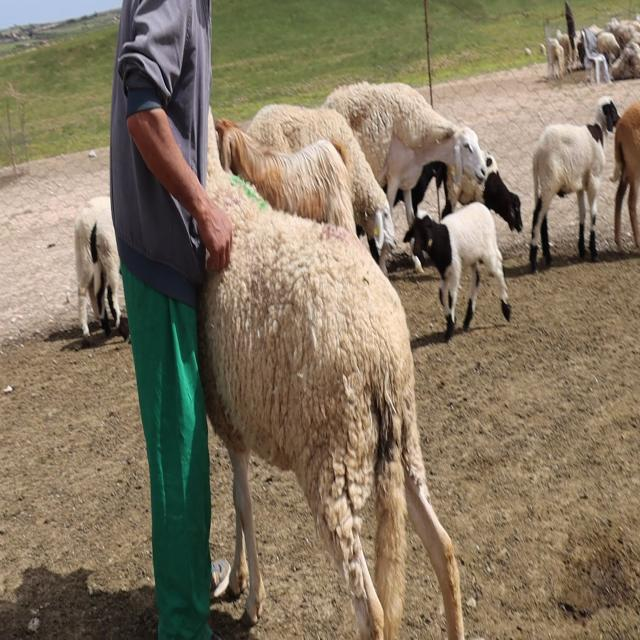Score_1: (197, 113, 464, 639)
